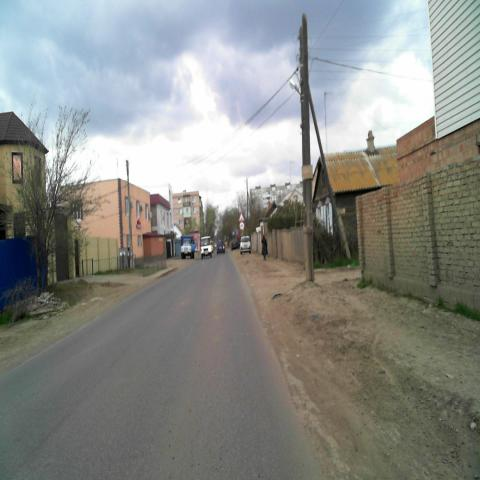1_17: (239, 213, 244, 221)
3_24: (239, 221, 244, 230)
